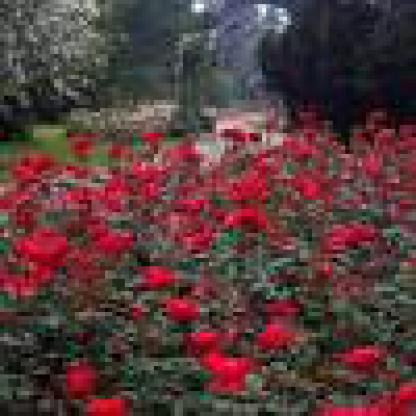Rose-Mawar: (9, 117, 413, 413)
